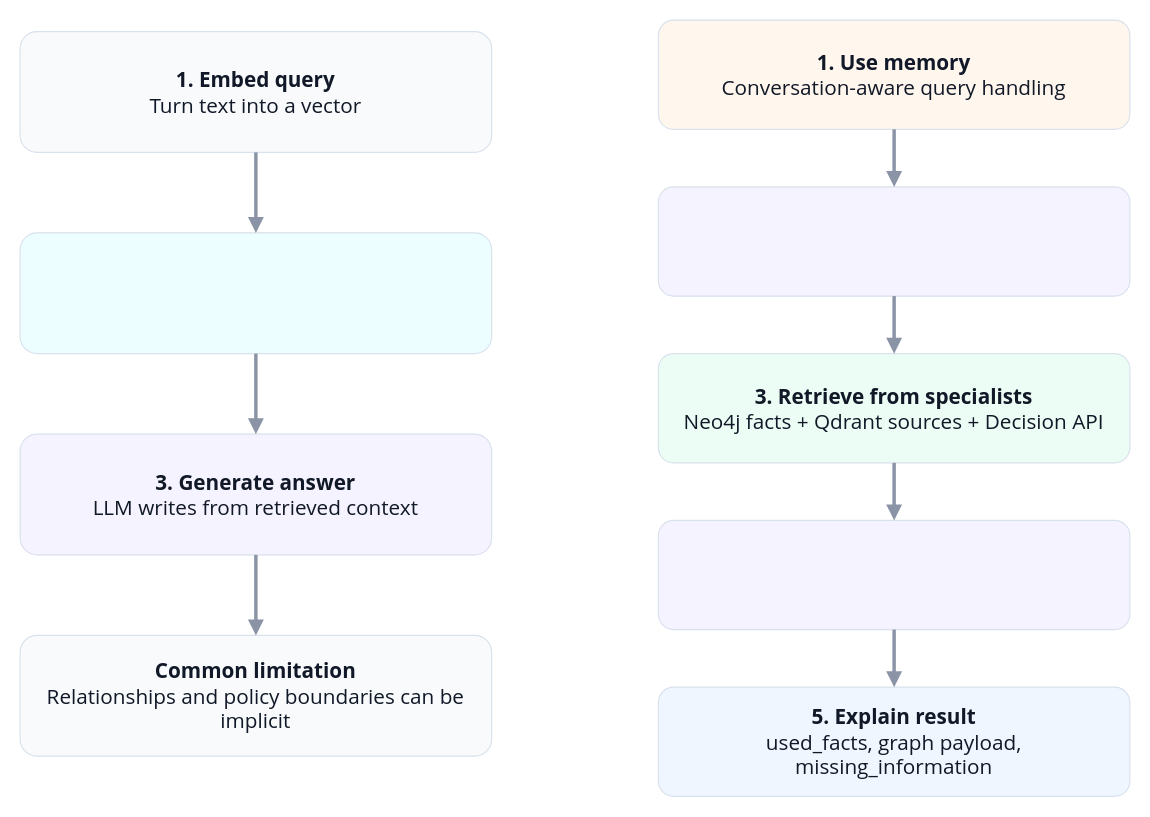
The diagram is 1150 pixels wide and 817 high, and some of its shapes have lost their labels. The shapes that lost their labels are listed below. From the top down, each one's box as (x1, y1, x2, y2) in pixels, then its label:
(657, 186, 1130, 296): 2. Route intelligently Brain Router selects KG, RAG, Hybrid, Decision
(19, 232, 492, 354): 2. Retrieve chunks Find similar documents
(657, 519, 1130, 630): 4. Synthesize safely Gemma primary, Gemini backup, fallback
